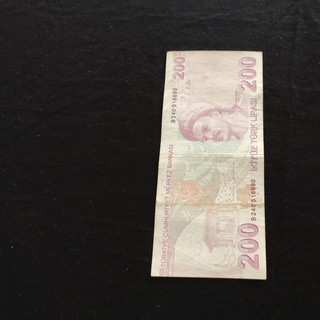200TLBack: (150, 49, 268, 281)
